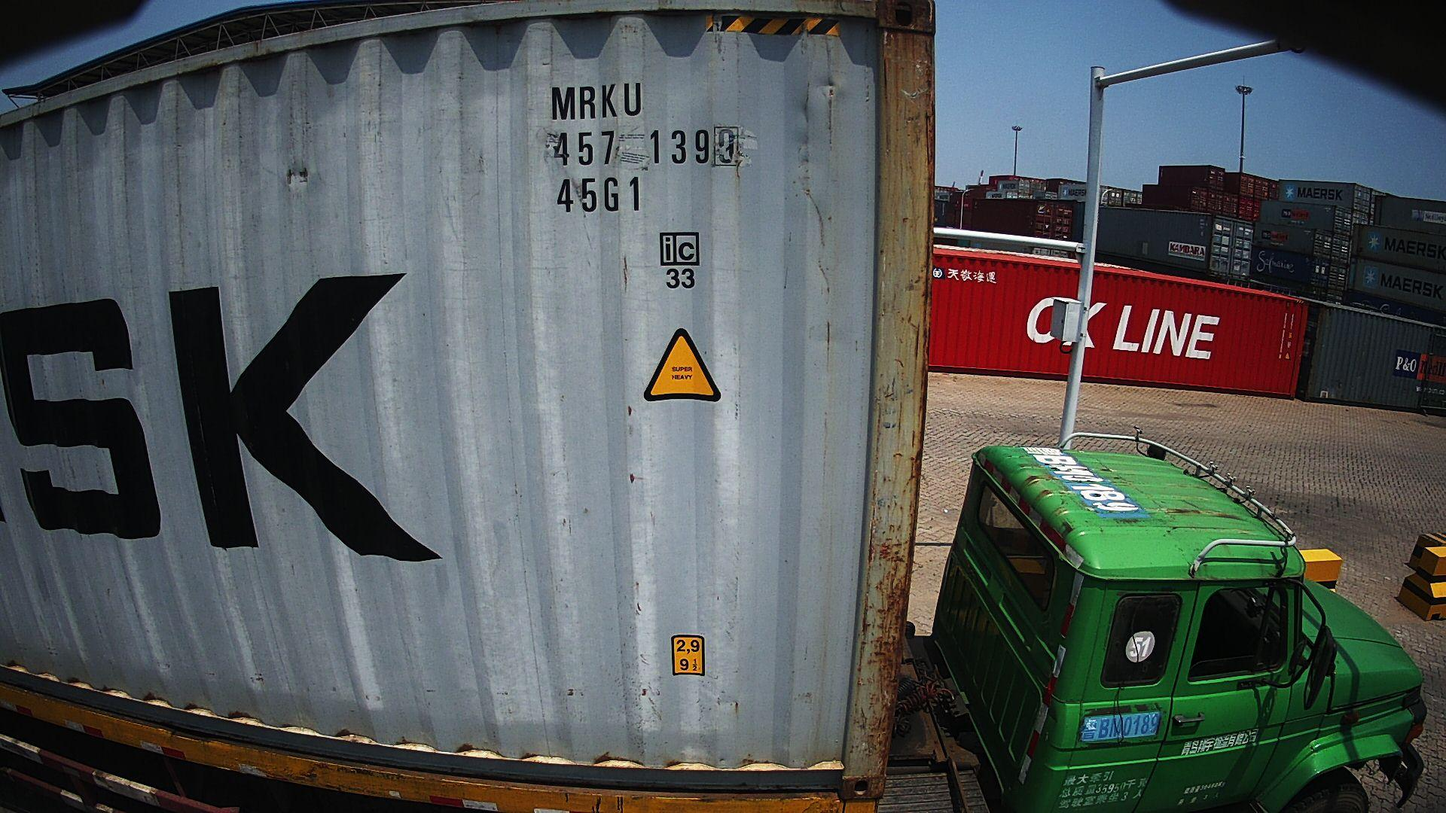container-numbers: (546, 126, 743, 171), (549, 79, 646, 123), (553, 175, 645, 216)
